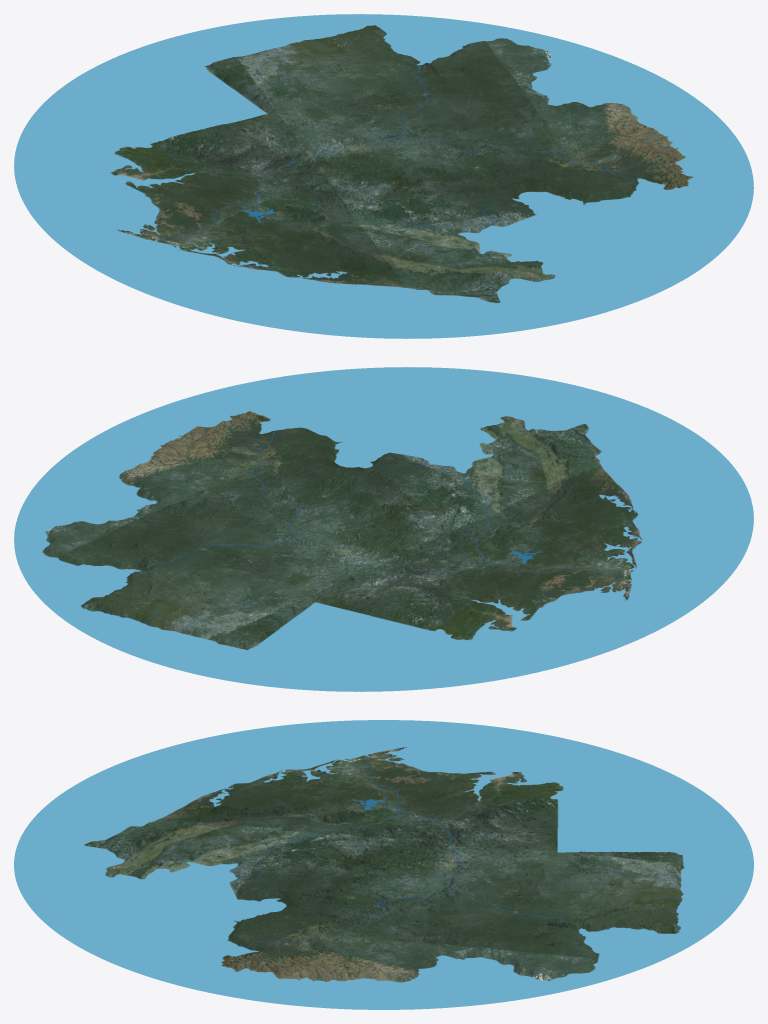
The model's file is GAB-previa-terrain.glb.
3 views of the same model, one above another, from view 1: azimuth 30°, elevation 25°; view 2: azimuth 150°, elevation 25°; view 3: azimuth 270°, elevation 25° (orthographic). The views are drawn at different scales.
Parts seen in each view (by area): view 1: Gabão; view 2: Gabão; view 3: Gabão.
Part boxes in pixels (box(x1,y1,x2,y2)): Gabão: box(14, 14, 753, 338); Gabão: box(14, 367, 753, 691); Gabão: box(14, 720, 753, 1009).
Bounding box in the file's own units: 2.01 × 0.0252 × 2.17.
1 material, 1 textured.
